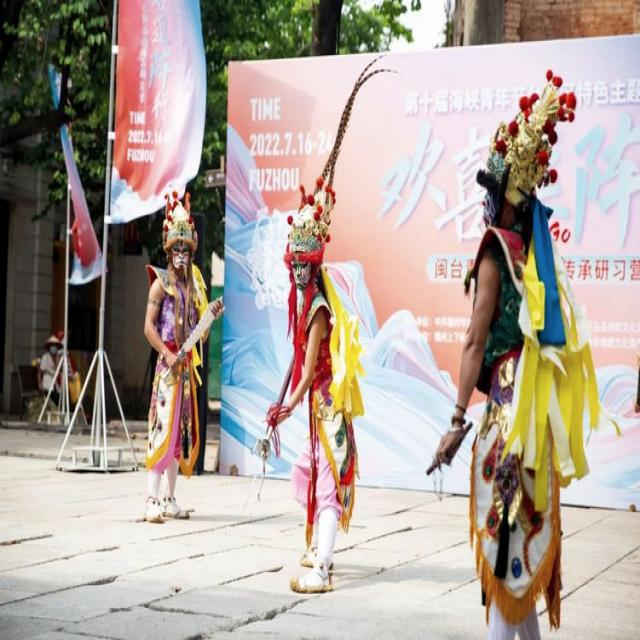Reeves-s Pheasant: (319, 58, 394, 186)
